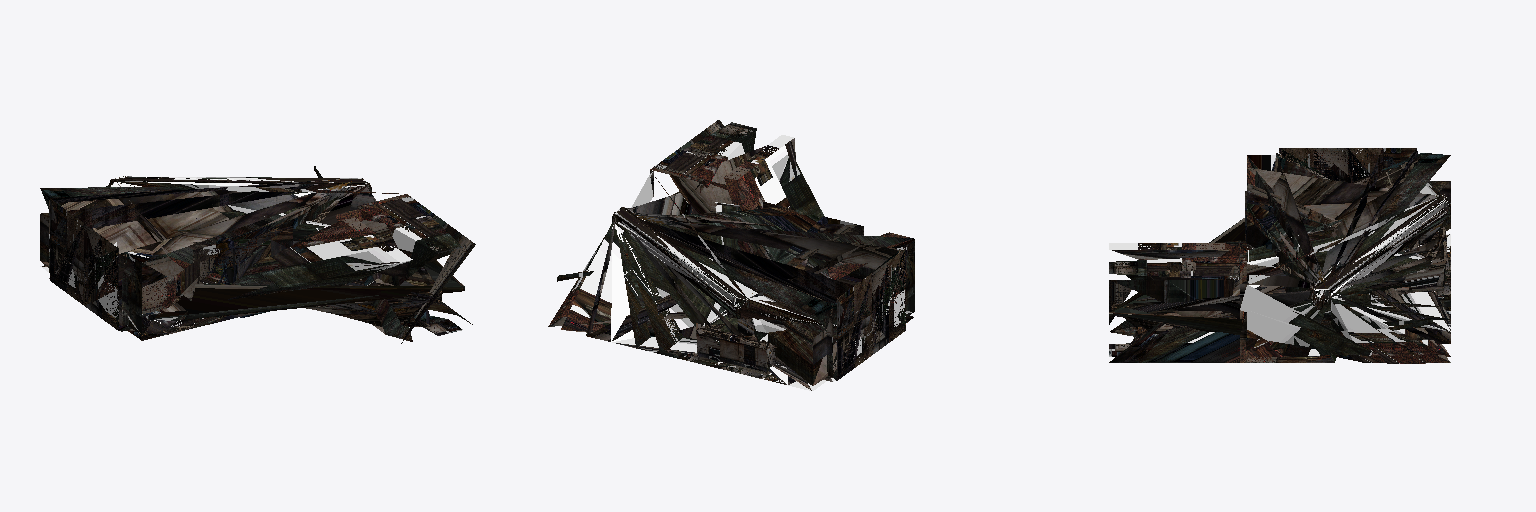
The picture shows the model from 3 angles: view 1: azimuth 30°, elevation 25°; view 2: azimuth 150°, elevation 25°; view 3: azimuth 270°, elevation 25°; orthographic projection.
Visible parts, largest first — view 1: Model001_Mesh11, Model001_Mesh10, Model001_Mesh5, Model001_Mesh8, Model001_Mesh9; view 2: Model001_Mesh11, Model001_Mesh10, Model001_Mesh5, Model001_Mesh9, Model001_Mesh8; view 3: Model001_Mesh11, Model001_Mesh10, Model001_Mesh5, Model001_Mesh9, Model001_Mesh8.
Boxes of the visible parts, x1=… form: Model001_Mesh11: x1=40, y1=166, x2=475, y2=342; Model001_Mesh10: x1=40, y1=176, x2=474, y2=343; Model001_Mesh5: x1=50, y1=176, x2=370, y2=317; Model001_Mesh8: x1=67, y1=177, x2=328, y2=329; Model001_Mesh9: x1=102, y1=176, x2=365, y2=330; Model001_Mesh11: x1=548, y1=120, x2=914, y2=390; Model001_Mesh10: x1=549, y1=120, x2=914, y2=390; Model001_Mesh5: x1=613, y1=207, x2=905, y2=380; Model001_Mesh9: x1=614, y1=208, x2=905, y2=341; Model001_Mesh8: x1=617, y1=209, x2=905, y2=367; Model001_Mesh11: x1=1109, y1=148, x2=1450, y2=363; Model001_Mesh10: x1=1109, y1=148, x2=1450, y2=363; Model001_Mesh5: x1=1279, y1=148, x2=1449, y2=309; Model001_Mesh9: x1=1311, y1=195, x2=1450, y2=301; Model001_Mesh8: x1=1279, y1=148, x2=1444, y2=300.
Bounding box in the file's own units: 9.72 × 2.79 × 10.46.
15 materials, 14 textured.